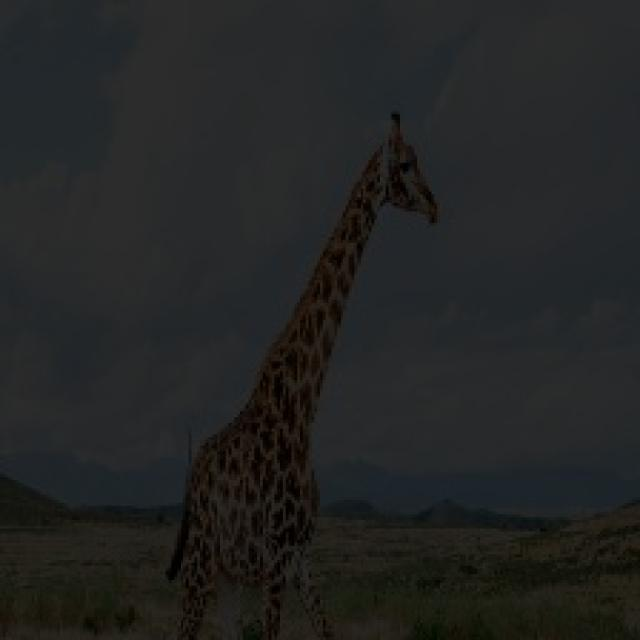animal: (200, 91, 484, 635)
